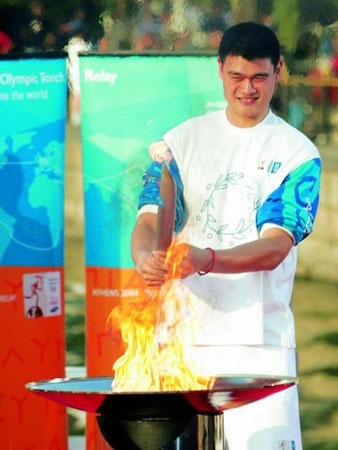fire: (106, 227, 210, 390)
